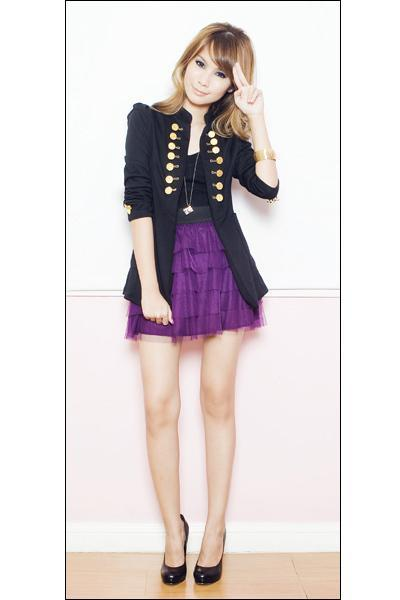jacket: (123, 107, 275, 314)
shirt: (171, 164, 212, 227)
shoe: (180, 564, 251, 599)
skirt: (127, 224, 263, 342)
